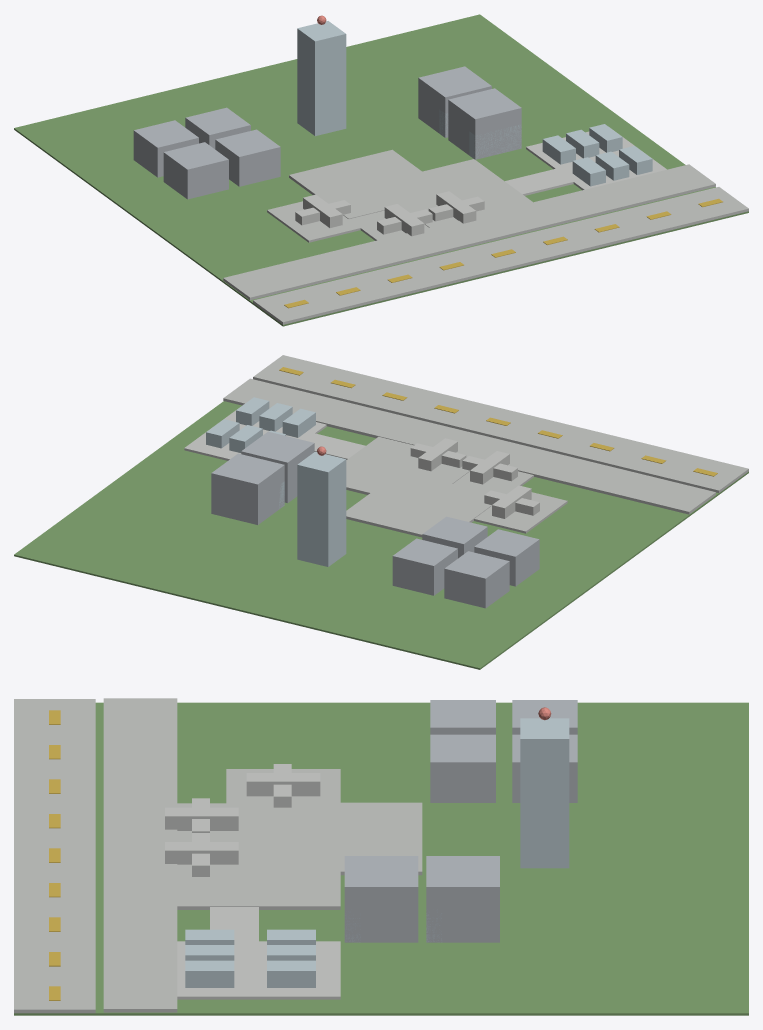
The model's file is stage_16.glb.
3 renders of one model, top to bottom at view 1: azimuth 30°, elevation 25°; view 2: azimuth 150°, elevation 25°; view 3: azimuth 270°, elevation 25°, orthographic. The views are drawn at different scales.
Parts seen in each view (by area): view 1: geometry_0; view 2: geometry_0; view 3: geometry_0.
Boxes of the visible parts, box(x1,y1,x2,y2) form: geometry_0: box(14, 14, 748, 326); geometry_0: box(14, 355, 748, 669); geometry_0: box(14, 698, 748, 1015).
Bounding box in the file's own units: 9 × 2.06 × 9.
